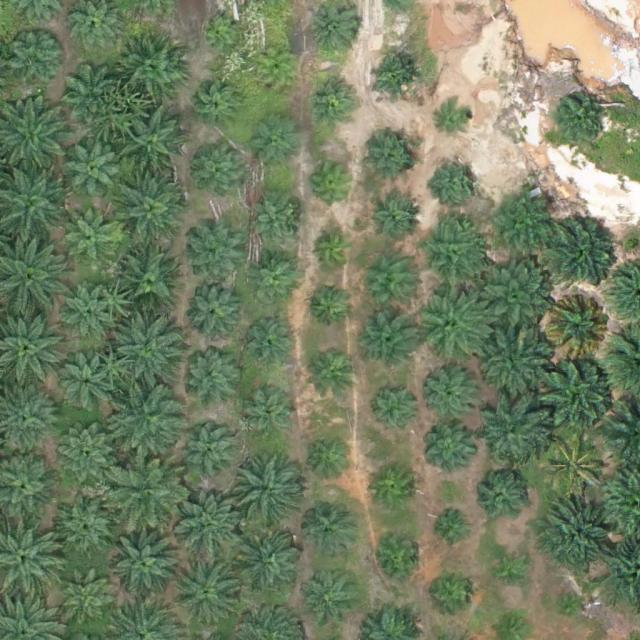Grass: (539, 429, 609, 500)
Healthy: (415, 283, 493, 362), (230, 454, 308, 533), (170, 484, 248, 563), (542, 211, 620, 290), (538, 357, 616, 436), (478, 324, 556, 403), (476, 391, 554, 470), (541, 495, 619, 574), (473, 261, 551, 339), (419, 220, 489, 291), (113, 315, 183, 386), (111, 462, 182, 532), (488, 188, 558, 259), (109, 529, 179, 599), (118, 178, 188, 248), (109, 387, 179, 457), (233, 530, 295, 593), (176, 560, 238, 623), (57, 564, 120, 626), (356, 255, 418, 318), (424, 361, 486, 424), (124, 115, 186, 178), (118, 248, 180, 311), (120, 38, 182, 100), (53, 422, 115, 484), (192, 145, 247, 201), (301, 569, 356, 624), (423, 420, 478, 475), (248, 254, 303, 309), (246, 390, 301, 445), (189, 228, 244, 283), (187, 283, 242, 338), (185, 426, 240, 481), (59, 496, 114, 551), (62, 360, 117, 415), (68, 144, 123, 199), (62, 65, 117, 120), (9, 29, 64, 84), (472, 470, 527, 525), (362, 312, 416, 367), (247, 197, 301, 252), (242, 318, 296, 373), (183, 353, 237, 408), (301, 503, 355, 558), (60, 283, 114, 338), (63, 211, 117, 266), (313, 3, 360, 50)
Small: (365, 134, 420, 189), (367, 194, 422, 249), (553, 96, 608, 151), (370, 55, 417, 103), (309, 352, 356, 400), (434, 157, 481, 205), (193, 82, 240, 129), (254, 122, 301, 169), (308, 77, 355, 124), (312, 160, 359, 207), (307, 437, 354, 484), (370, 462, 417, 509), (306, 283, 353, 330), (376, 387, 423, 434), (310, 228, 357, 275), (372, 535, 419, 582), (427, 571, 474, 618), (437, 100, 476, 140), (491, 554, 530, 594), (199, 12, 238, 51), (433, 506, 472, 545), (553, 590, 584, 621)
Yellow: (543, 292, 613, 362), (256, 50, 295, 89)
